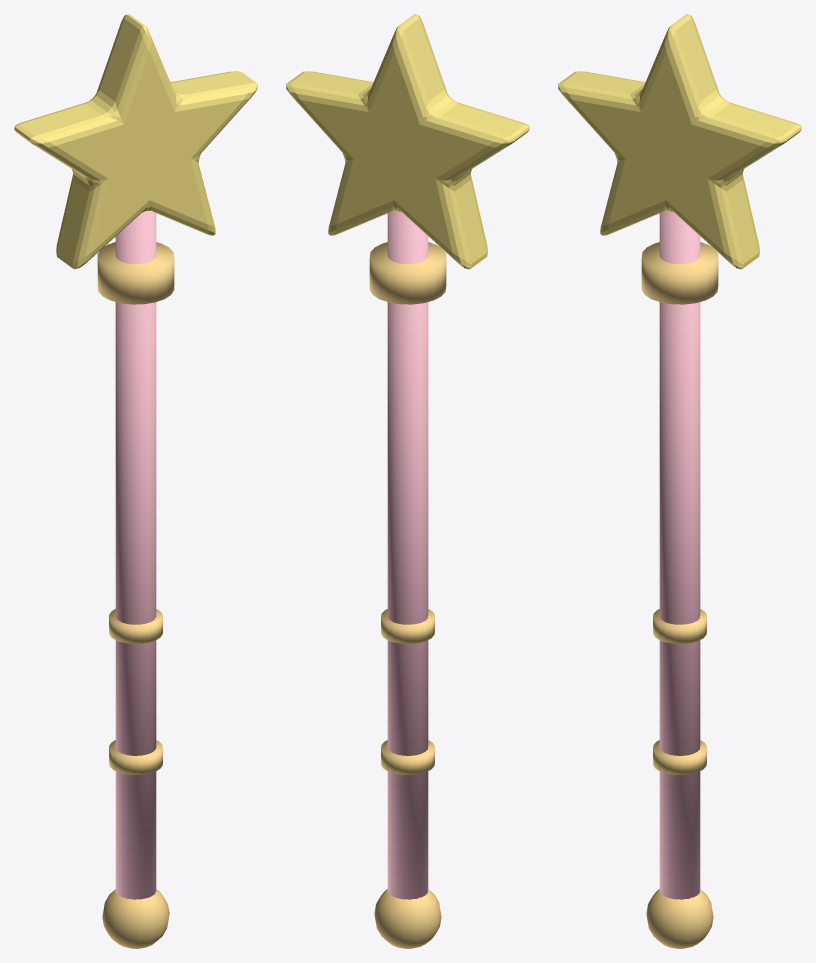
File: Staff.gltf
3 views of the same model, side by side, from view 1: azimuth 30°, elevation 25°; view 2: azimuth 150°, elevation 25°; view 3: azimuth 330°, elevation 25° (orthographic).
Visible parts, largest first — view 1: Staff; view 2: Staff; view 3: Staff.
Boxes of the visible parts, x1,y1,x2,y2 form: Staff: (14,14,257,948); Staff: (286,14,529,948); Staff: (558,14,801,948).
Bounding box in the file's own units: 0.5818 × 2.26 × 0.17.
